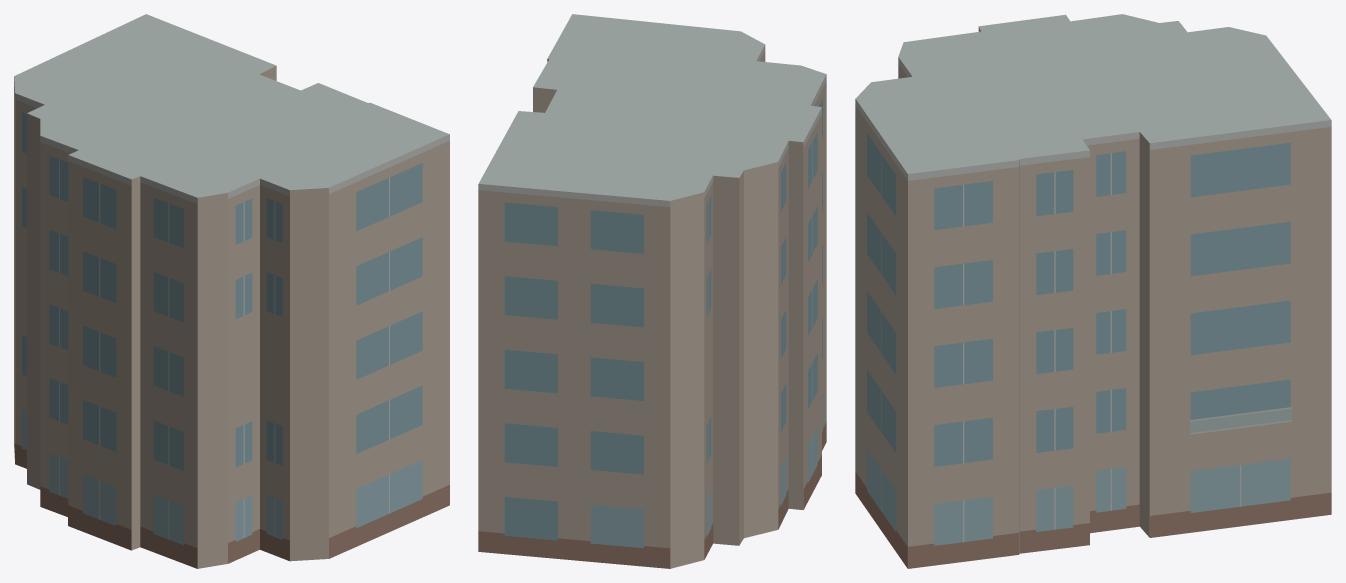
File: survey-upis-32939395.glb
3 renders of one model, left to right at view 1: azimuth 30°, elevation 25°; view 2: azimuth 150°, elevation 25°; view 3: azimuth 270°, elevation 25°, orthographic. The views are drawn at different scales.
Visible parts, largest first — view 1: survey-upis-32939395.tmp; view 2: survey-upis-32939395.tmp; view 3: survey-upis-32939395.tmp.
Boxes of the visible parts, box(x1,y1,x2,y2) form: survey-upis-32939395.tmp: box(14, 14, 449, 568); survey-upis-32939395.tmp: box(478, 14, 826, 568); survey-upis-32939395.tmp: box(855, 14, 1331, 568).
Bounding box in the file's own units: 12.46 × 14.3 × 15.64.
